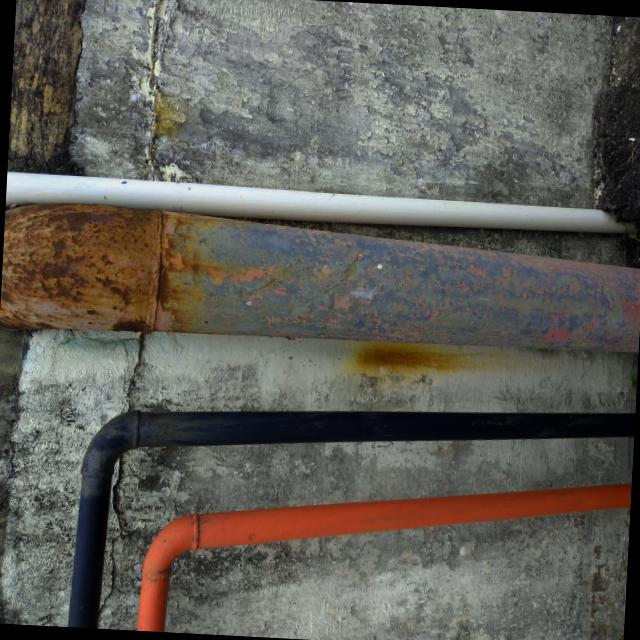gas: (69, 408, 636, 629), (17, 200, 640, 347), (136, 485, 632, 632), (19, 171, 608, 227)
